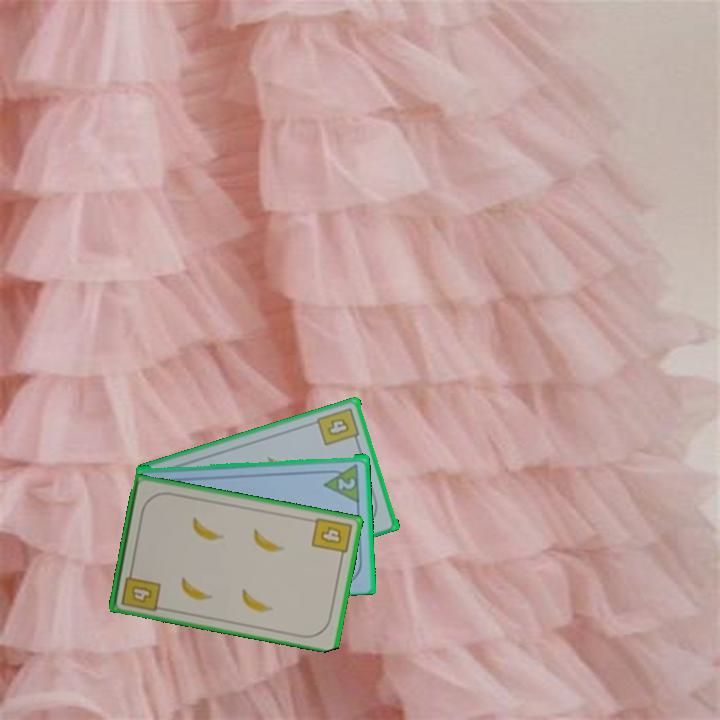2p: (335, 474, 358, 492)
4b: (308, 514, 355, 563), (117, 565, 163, 614), (314, 404, 363, 448)
